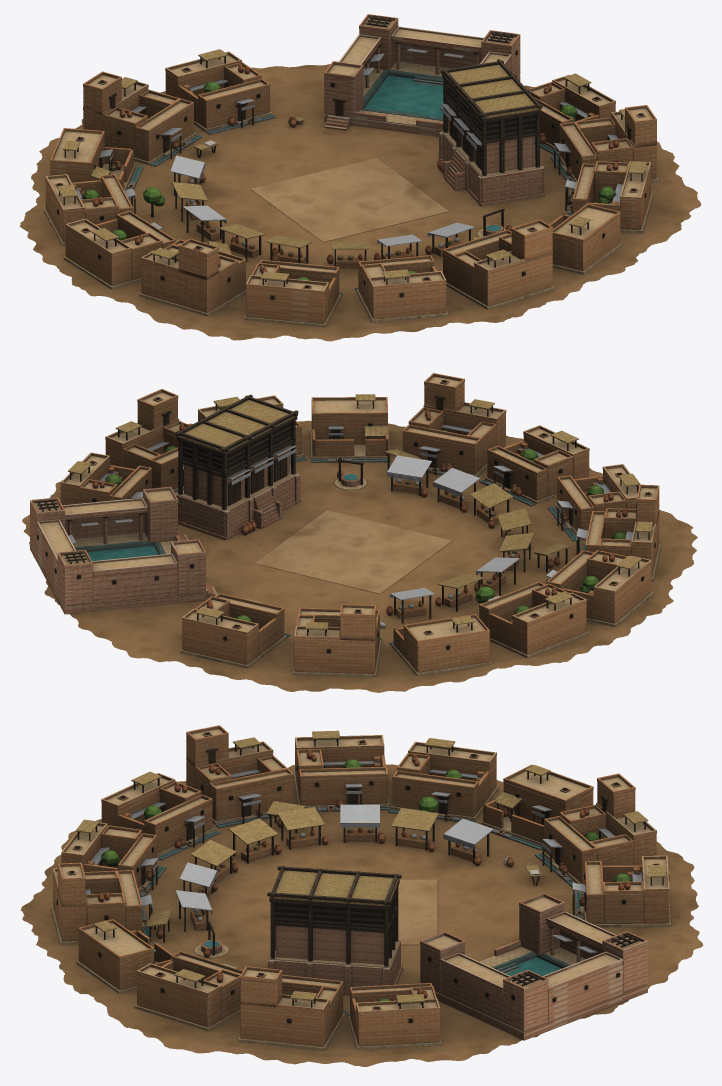
The model's file is bronze-town-medium-a-indic-104253a5.glb.
3 renders of one model, top to bottom at view 1: azimuth 30°, elevation 25°; view 2: azimuth 150°, elevation 25°; view 3: azimuth 270°, elevation 25°, orthographic. The views are drawn at different scales.
Visible parts, largest first — view 1: LOD0; view 2: LOD0; view 3: LOD0.
Boxes of the visible parts, left/top/right/bottom form: LOD0: left=19, top=14, right=701, bottom=341; LOD0: left=22, top=373, right=697, bottom=692; LOD0: left=20, top=725, right=703, bottom=1066.
Size of what is drawn, in the model's own units: 5.92 by 0.8781 by 5.6.
3 materials, 3 textured.
